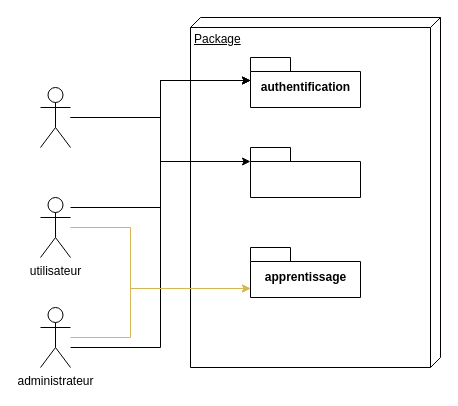
Image size: 458x406. Some labels were removed from this diagram. The centre of each missing label's shape, as x and y in pixels:
information: the point at 305,172
visiteur: the point at 55,117
